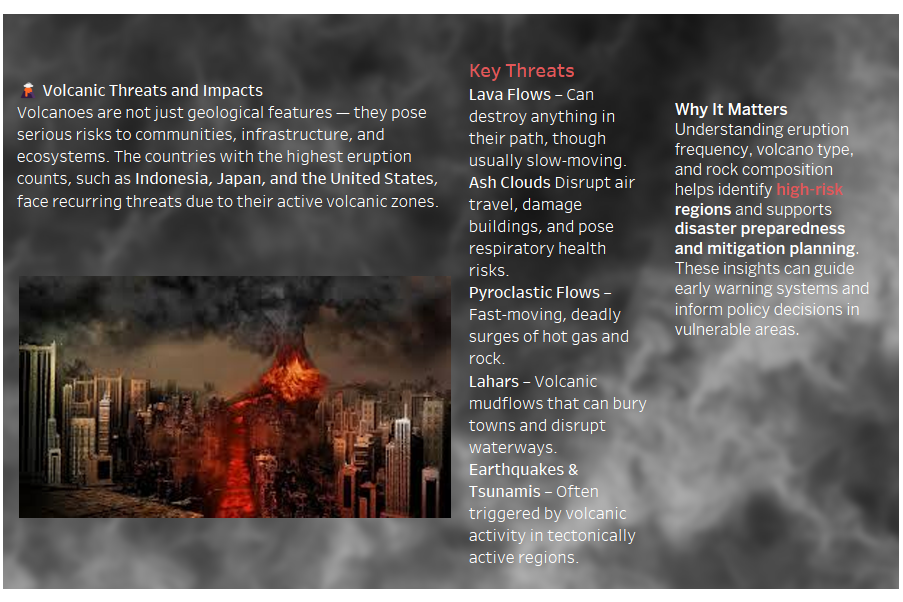

This screenshot's page, from the dashboard's own definition file:
{"tool":"tableau","page":{"name":"Why it matters","canvas":[900,614],"ordinal":5},"visuals":[{"type":"text","box":[463,67,185,530]},{"type":"text","box":[11,70,436,175]},{"type":"text","box":[669,79,206,311]},{"type":"image","param":"Image/Volcano cities.jpeg","box":[16.4,228.7,431.7,357.2]}]}

Visuals, with their boxes in screenshot pixels (x1, y1, x2, y2), scaled from the page's 900x614 canvas onto the 903x602 screenshot:
text: detection(465, 66, 650, 585)
text: detection(11, 69, 448, 240)
text: detection(671, 77, 878, 382)
image: detection(16, 224, 450, 574)
